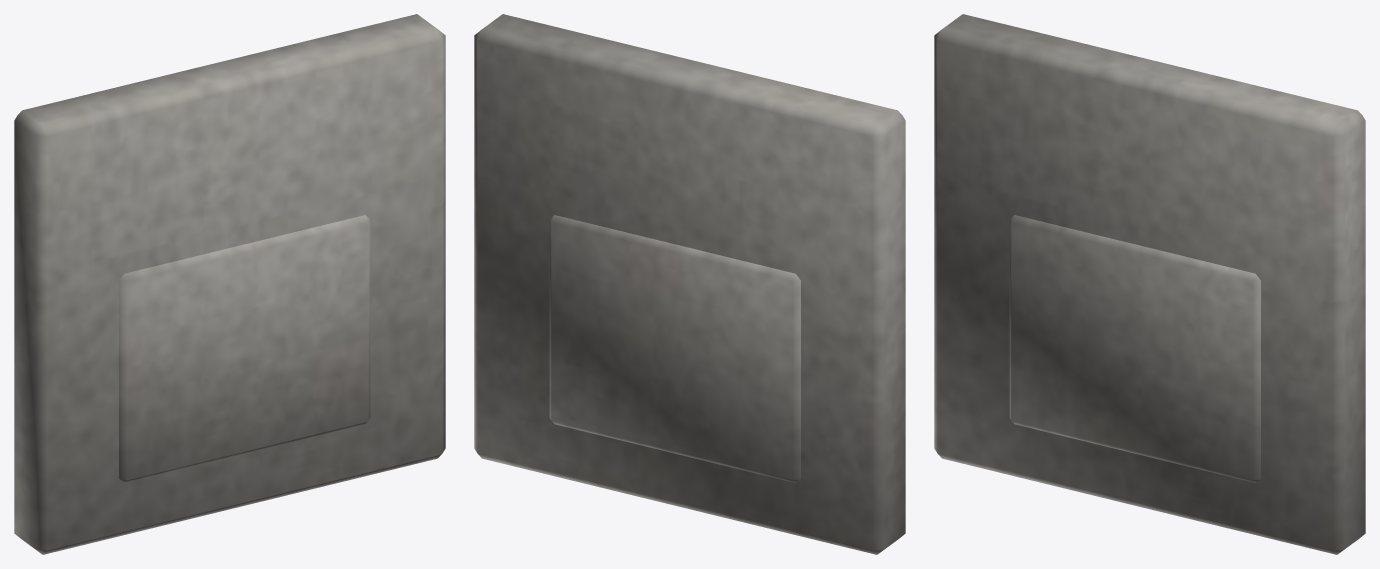
File: heraldic-crest.glb
3 views of the same model, side by side, from view 1: azimuth 30°, elevation 25°; view 2: azimuth 150°, elevation 25°; view 3: azimuth 330°, elevation 25° (orthographic).
Parts seen in each view (by area): view 1: heraldic_crest; view 2: heraldic_crest; view 3: heraldic_crest.
Boxes of the visible parts, x1=… form: heraldic_crest: x1=14, y1=14, x2=445, y2=554; heraldic_crest: x1=474, y1=14, x2=905, y2=554; heraldic_crest: x1=934, y1=14, x2=1365, y2=554.
Bounding box in the file's own units: 0.8 × 0.8 × 0.12.
1 material, 1 textured.
